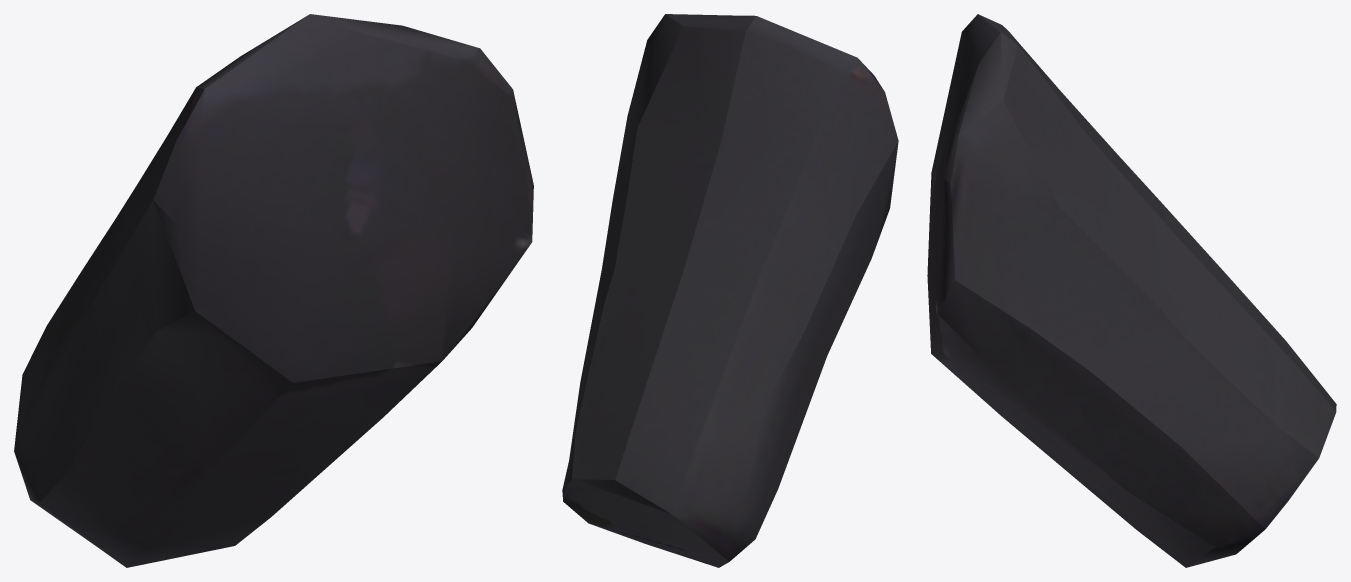
The model's file is hombro-izquierdo-ca.obj.
3 views of the same model, side by side, from view 1: azimuth 30°, elevation 25°; view 2: azimuth 150°, elevation 25°; view 3: azimuth 270°, elevation 25° (orthographic). The views are drawn at different scales.
Visible parts, largest first — view 1: model.064; view 2: model.064; view 3: model.064.
Part boxes in pixels (<box>): model.064: <box>14,14,533,567</box>; model.064: <box>562,14,898,567</box>; model.064: <box>927,14,1336,567</box>.
Bounding box in the file's own units: 0.0411 × 0.0663 × 0.0472.
1 material, 1 textured.
